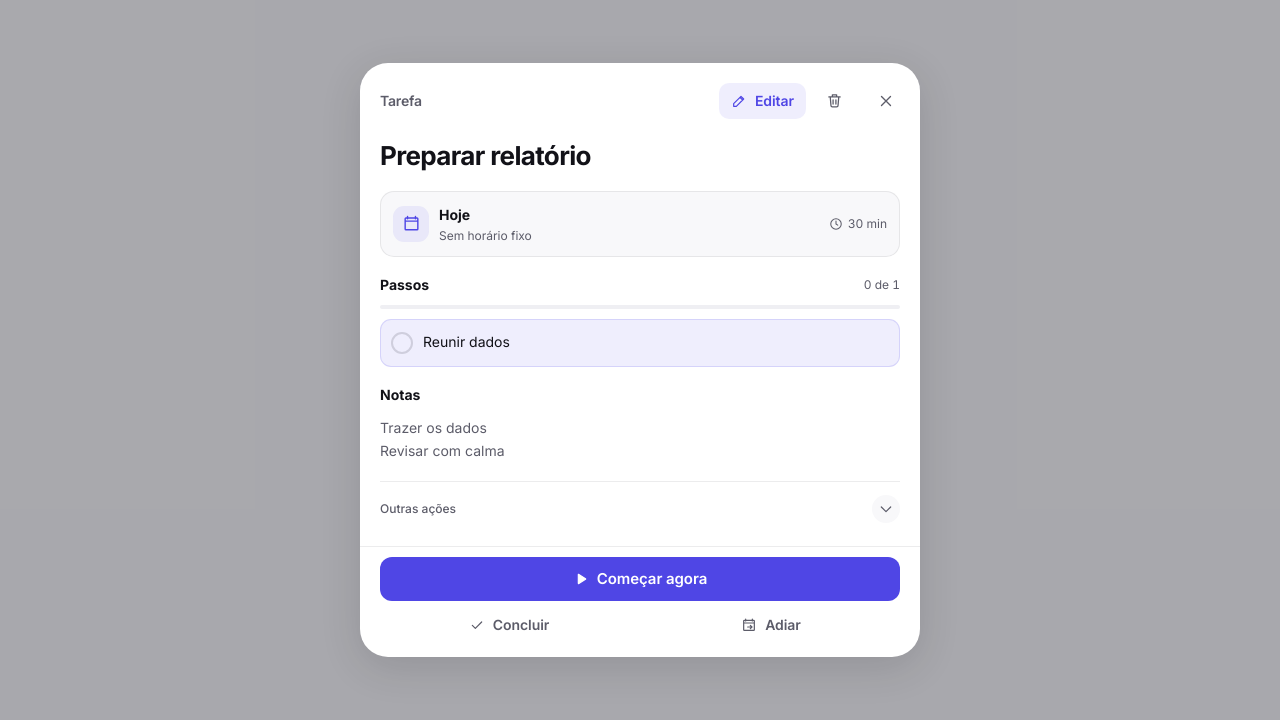
consulta e edição de tarefas › abre em consulta, marca passos imediatamente e não inicia um rascunho
The width and height of the screenshot is (1280, 720).
Later steps or results of the test are not shown.
Expected: the heading "Preparar relatório" is shown, [380,140,591,171]
Click the checkbox named "Concluir passo: Reunir dados" at (466, 342), box [380,319,900,367]
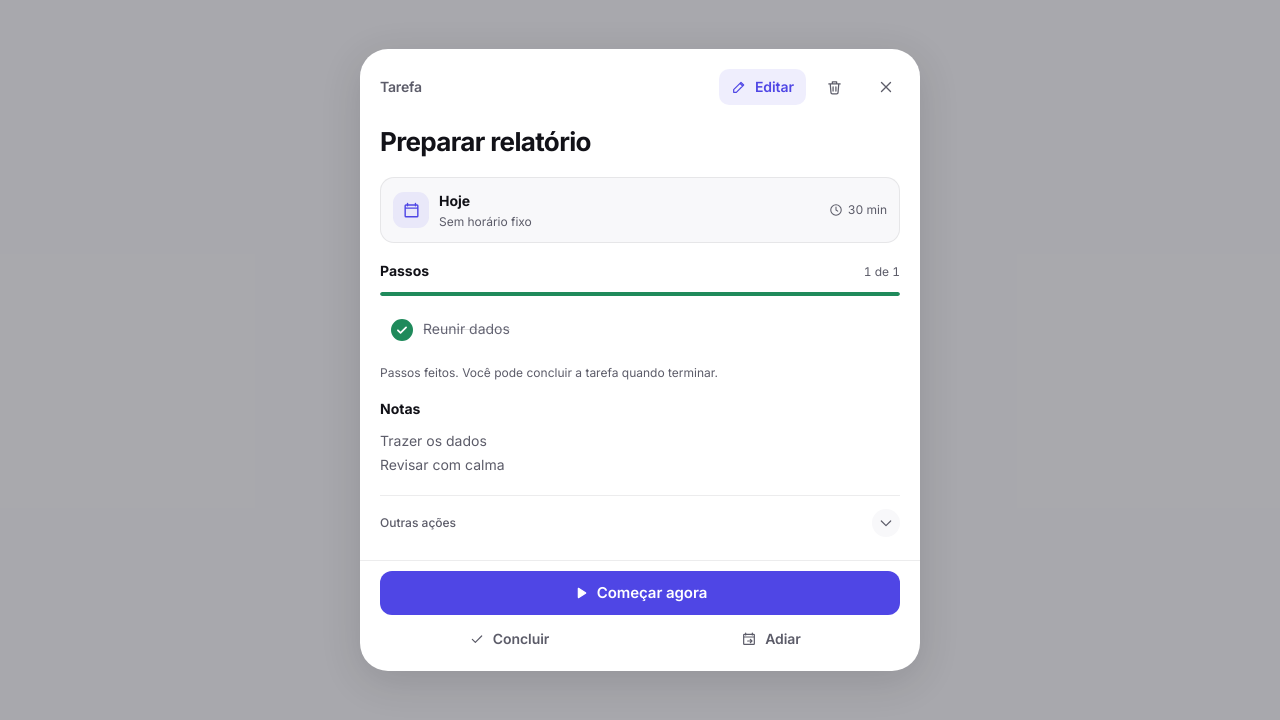
Expected: the text "1 de 1" is shown, [864,263,900,280]
